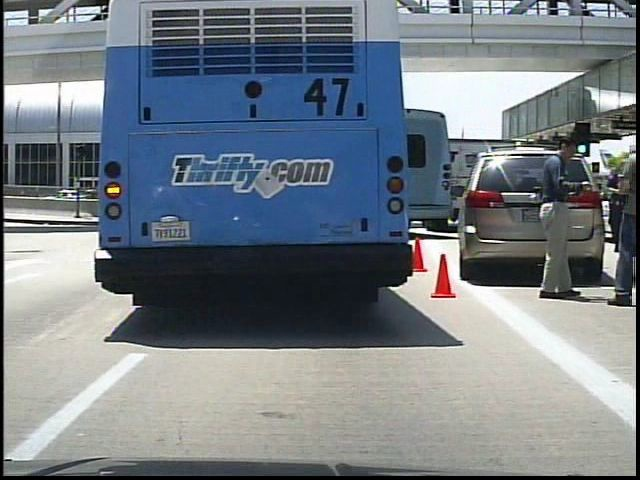person: (532, 127, 596, 307), (596, 124, 638, 299)
